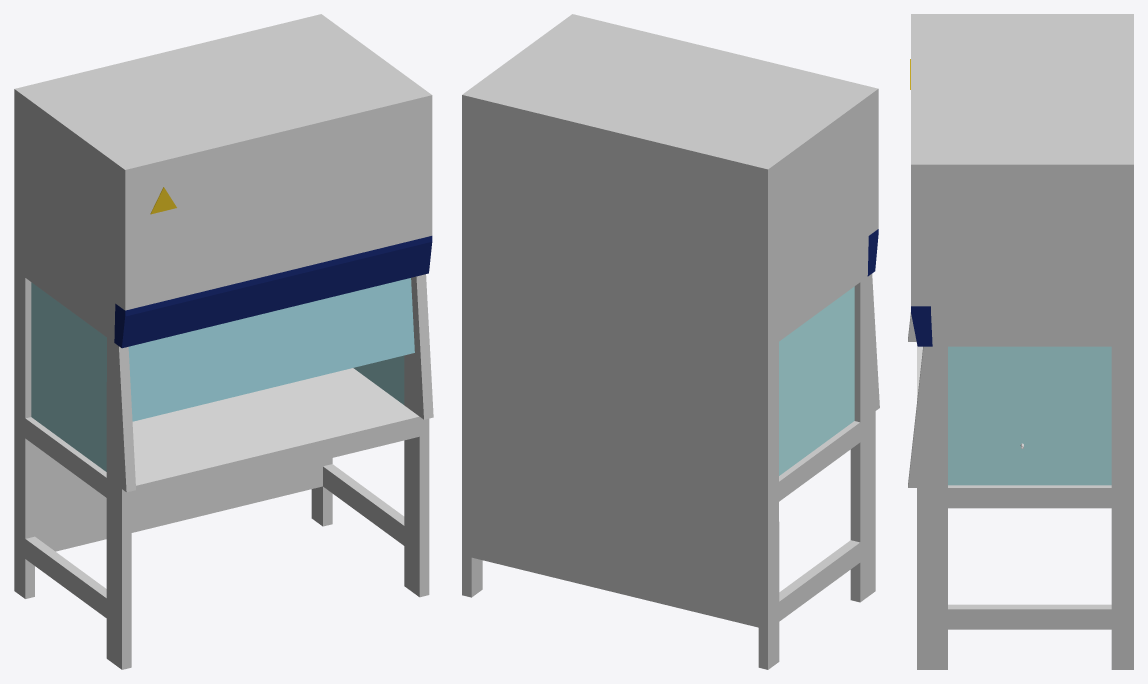
Rendered from BSCClass2.fbx.
The picture shows the model from 3 angles, left to right: view 1: azimuth 30°, elevation 25°; view 2: azimuth 150°, elevation 25°; view 3: azimuth 270°, elevation 25°; orthographic projection.
Visible parts, largest first — view 1: BSC2.001, Glass3Front.001, Glass2.001, Glass1.001; view 2: BSC2.001, Glass2.001; view 3: BSC2.001, Glass1.001.
Part boxes in pixels (bbox=[...]): BSC2.001: bbox=[14, 14, 433, 669]; Glass3Front.001: bbox=[128, 278, 414, 421]; Glass2.001: bbox=[31, 282, 106, 471]; Glass1.001: bbox=[353, 355, 404, 404]; BSC2.001: bbox=[462, 14, 879, 669]; Glass2.001: bbox=[779, 286, 854, 475]; BSC2.001: bbox=[908, 14, 1133, 669]; Glass1.001: bbox=[948, 346, 1111, 485].
Bounding box in the file's own units: 1600 × 2500 × 1013.
